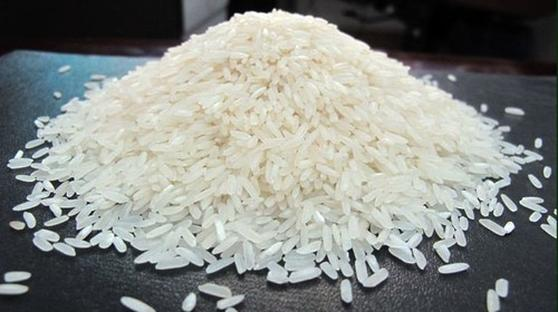rice: (112, 17, 435, 251)
